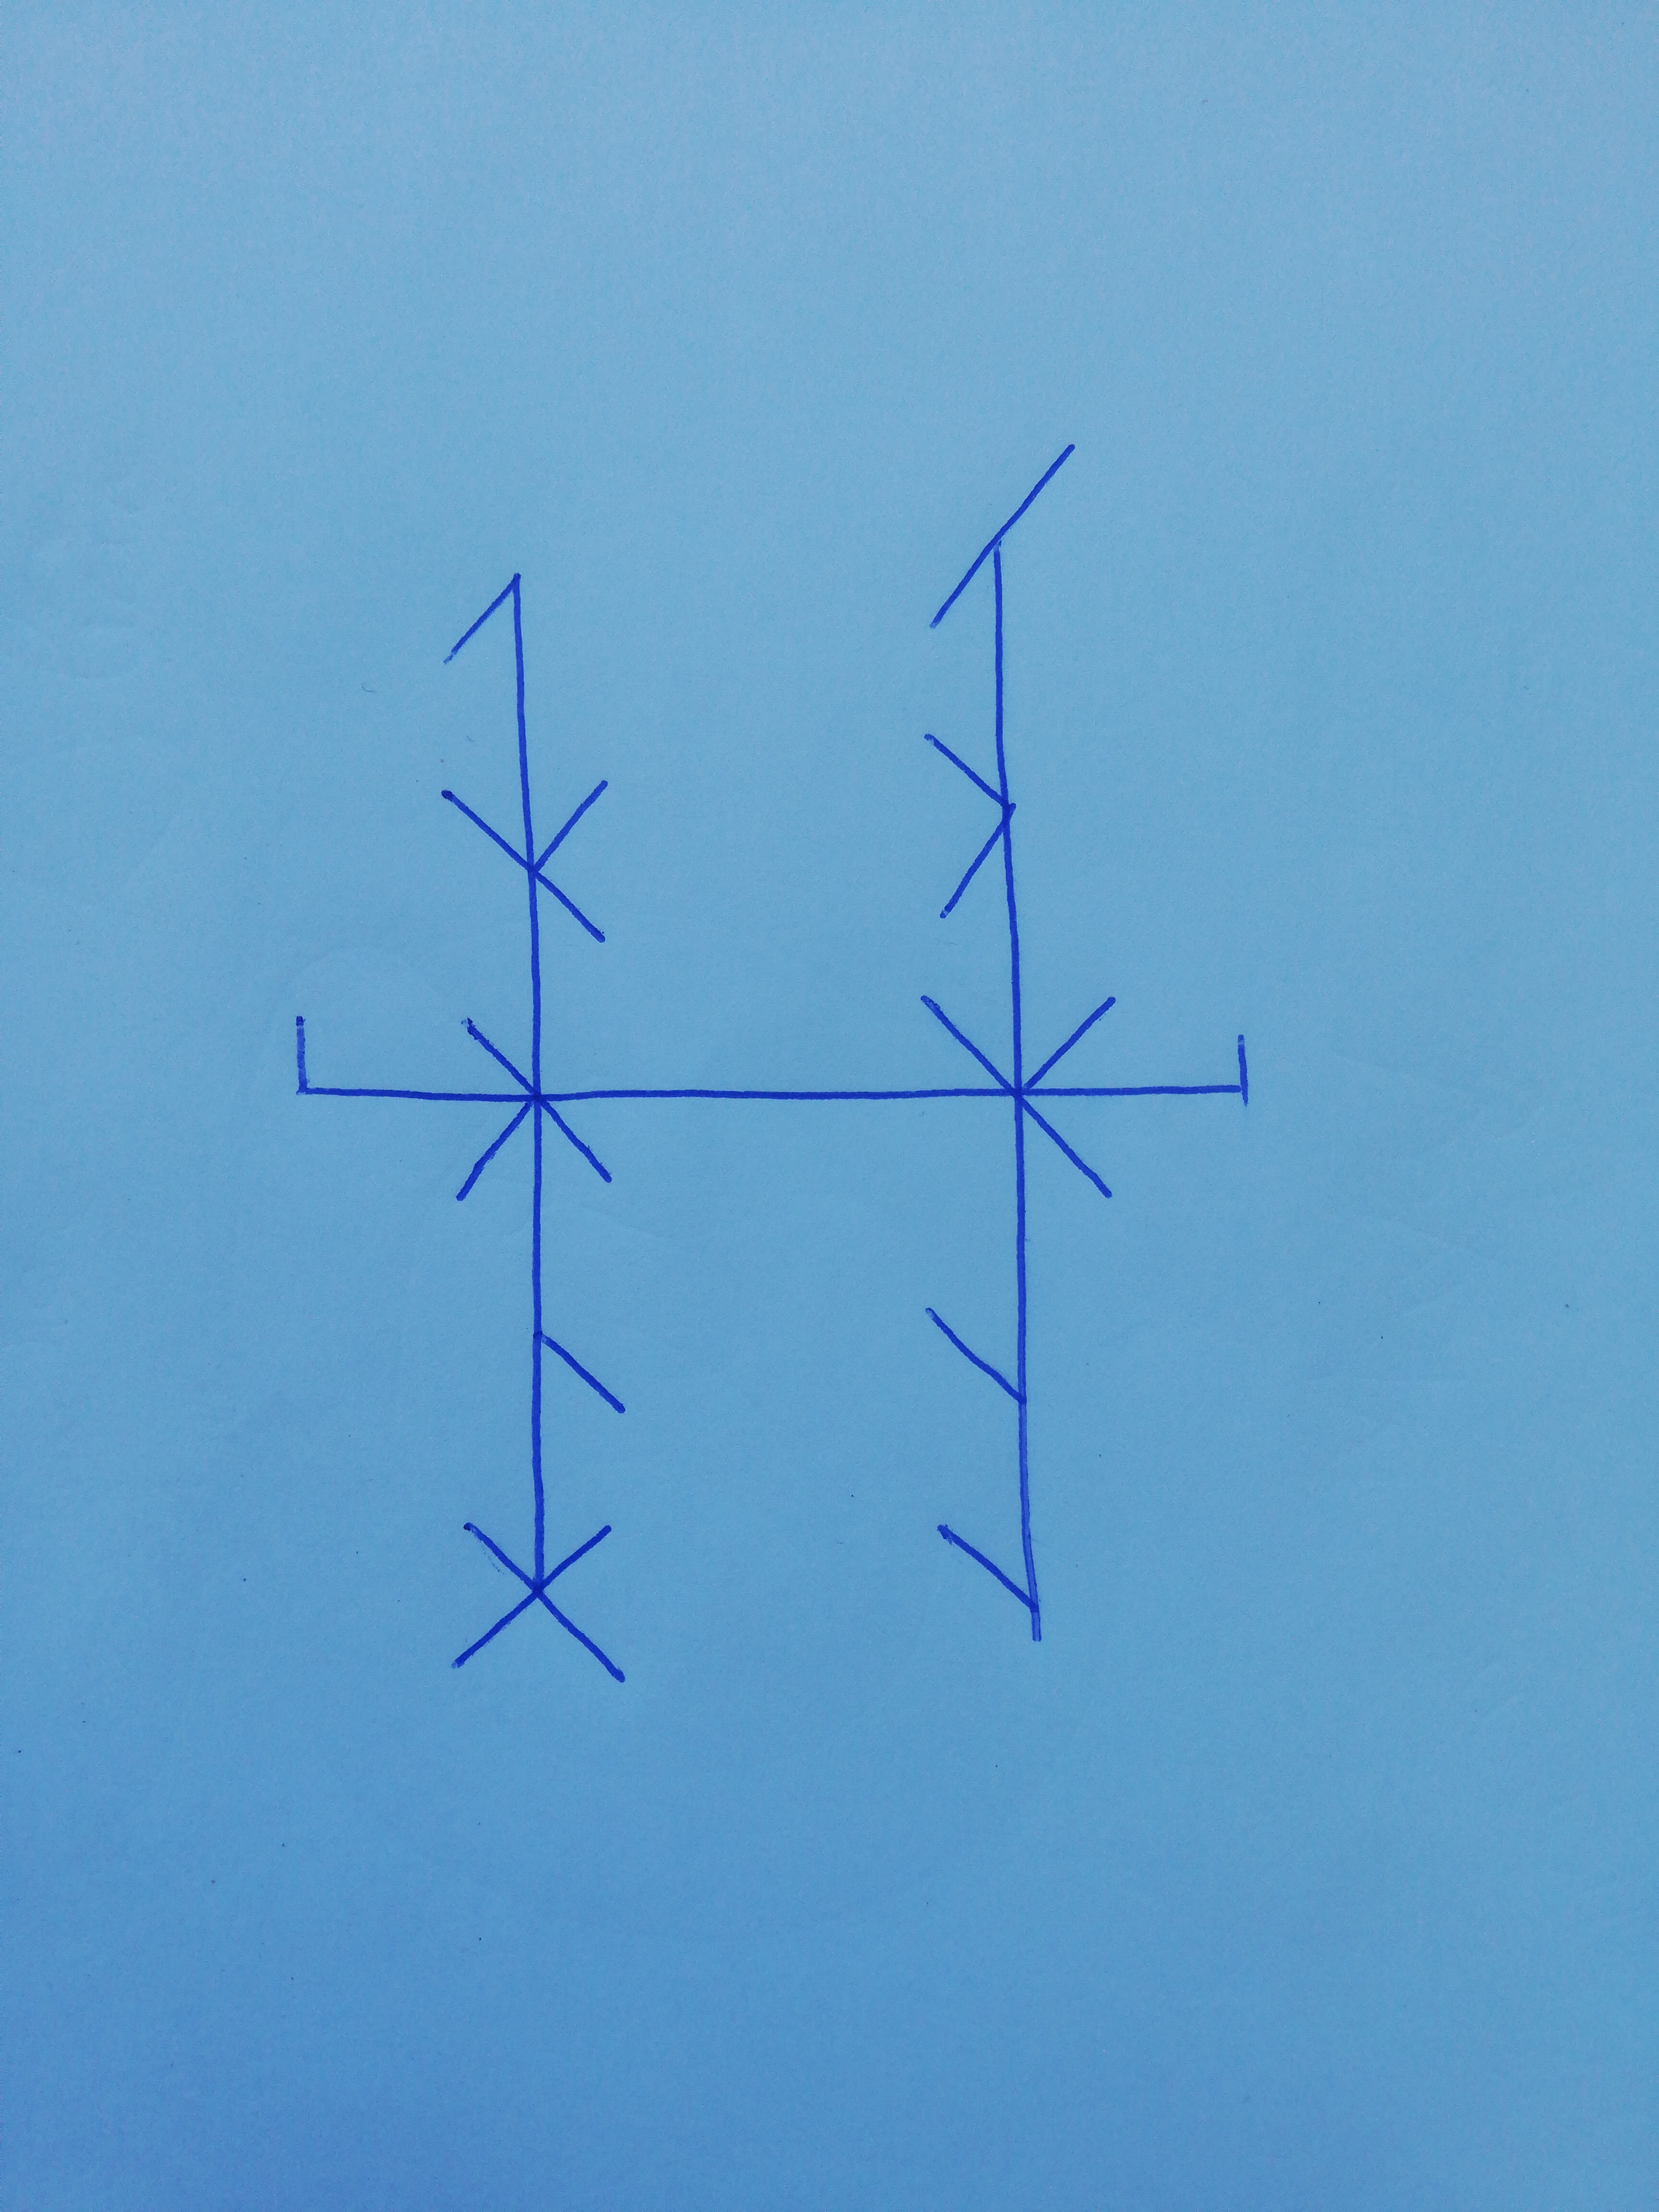Bar: (920, 441, 1114, 1637), (441, 573, 631, 1686)
Barcode: (291, 439, 1253, 1688)
End: (1089, 1031, 1255, 1108)
Start: (291, 1015, 455, 1103)
